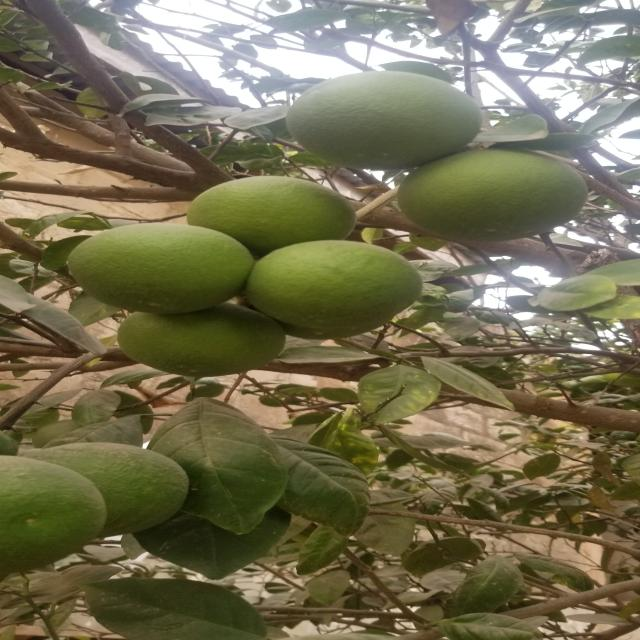Unripe: (268, 64, 493, 176), (376, 136, 598, 248), (46, 213, 271, 314), (43, 433, 199, 546), (268, 232, 431, 340), (94, 304, 304, 382)
